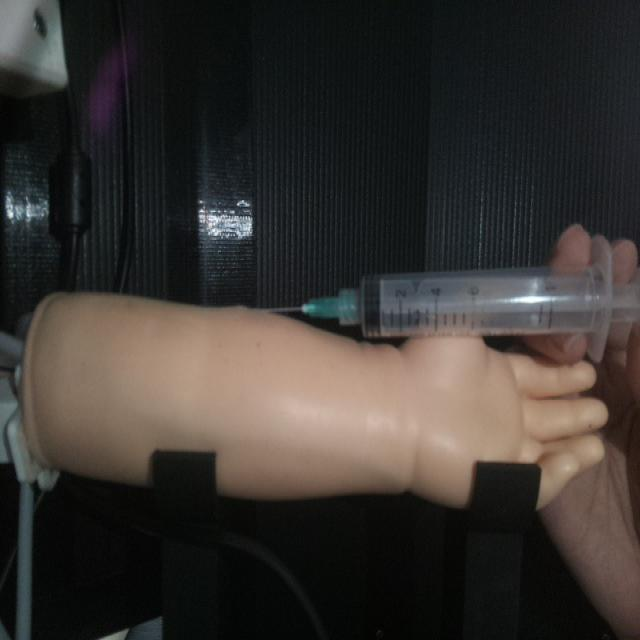Outside: (268, 251, 637, 348)
